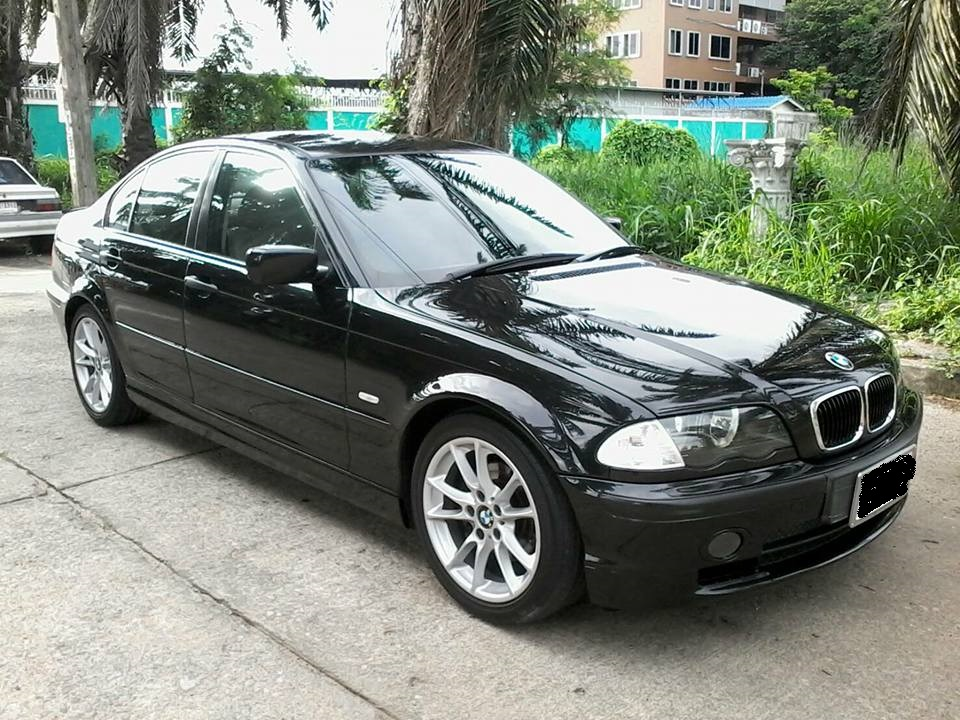sedan: (49, 125, 926, 625)
